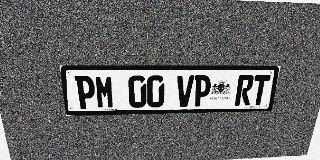0: (128, 75, 146, 108), (147, 75, 165, 108)
M: (94, 75, 115, 109)
P: (75, 75, 96, 109), (193, 75, 212, 107)
R: (234, 75, 255, 106)
T: (250, 75, 271, 105)
V: (176, 75, 194, 107)
